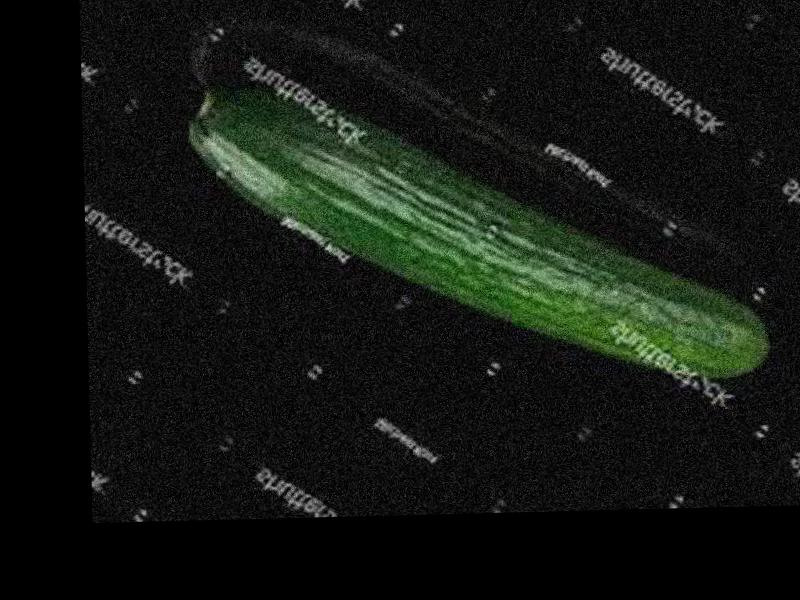Cucumber: (188, 66, 773, 393)
